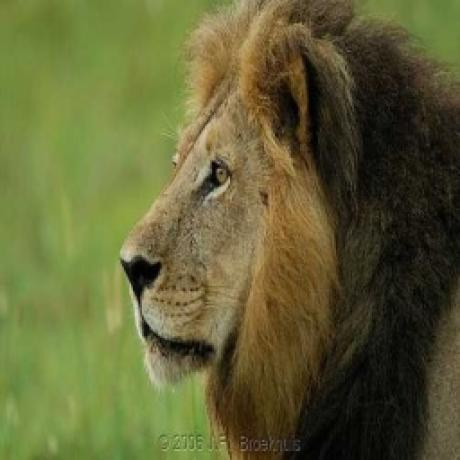Lion: (118, 0, 460, 460)
